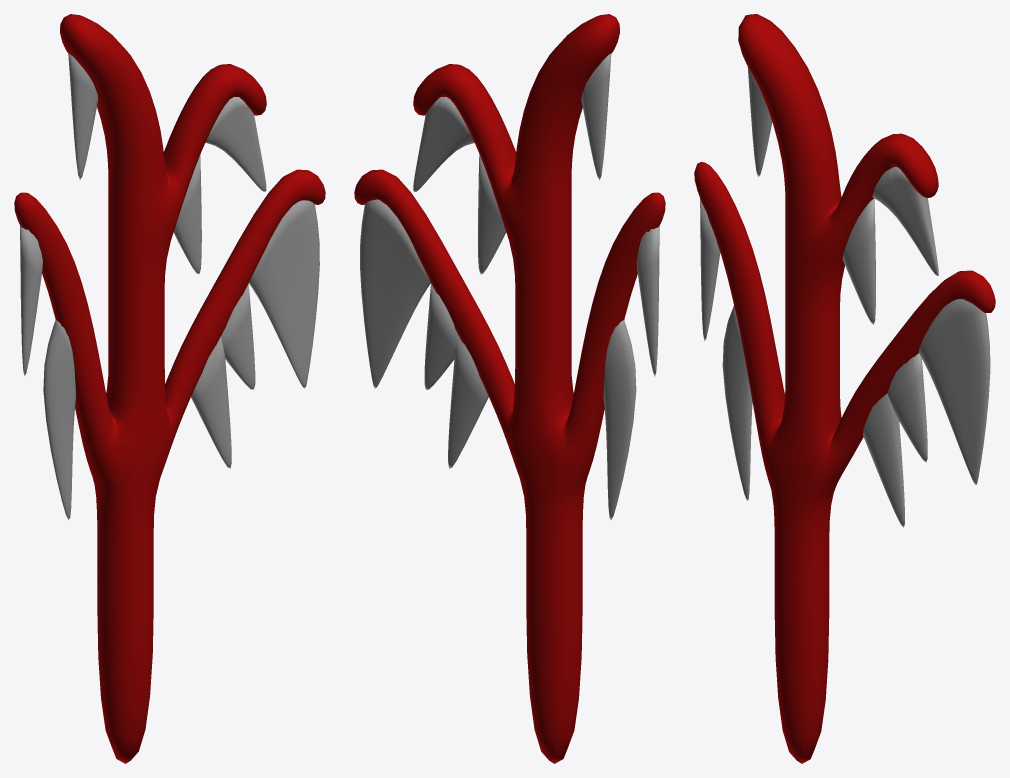
The model's file is mars-tree-03.obj.
3 renders of one model, left to right at view 1: azimuth 30°, elevation 25°; view 2: azimuth 150°, elevation 25°; view 3: azimuth 330°, elevation 25°, orthographic. The views are drawn at different scales.
Parts seen in each view (by area): view 1: Tree.003_Cube.008; view 2: Tree.003_Cube.008; view 3: Tree.003_Cube.008.
Boxes of the visible parts, x1,y1,x2,y2 form: Tree.003_Cube.008: (14,14,325,763); Tree.003_Cube.008: (354,14,665,763); Tree.003_Cube.008: (694,14,995,763).
Size of the model in its own units: 1.2 by 2.82 by 0.1957.
